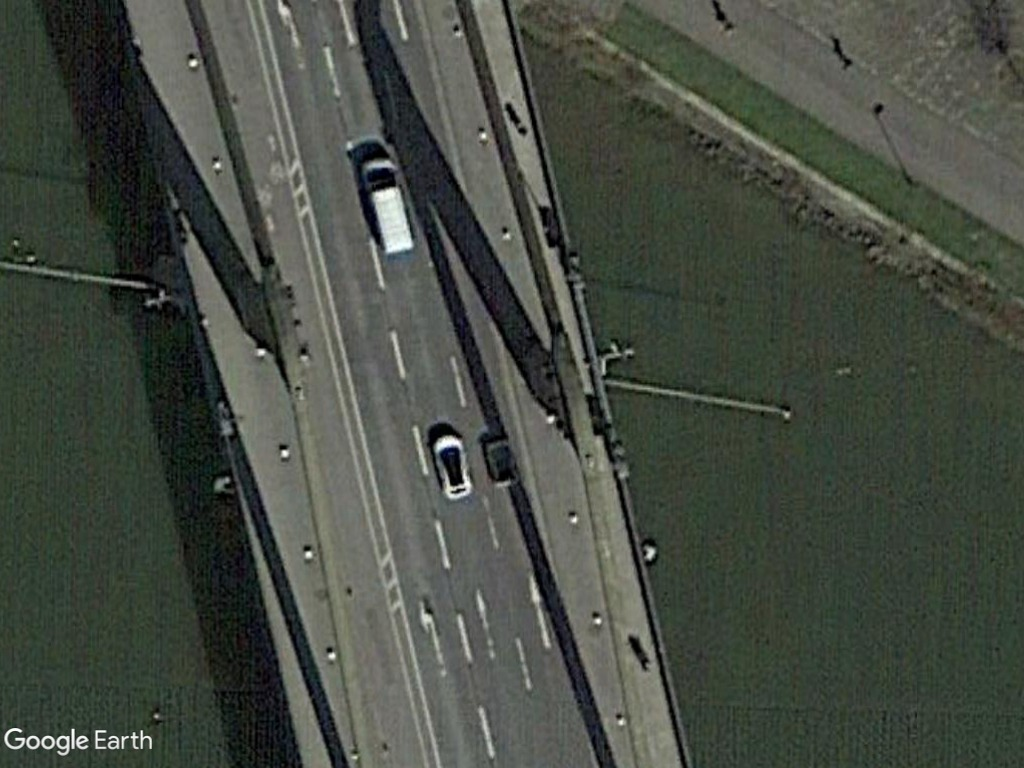van: (357, 153, 420, 259)
